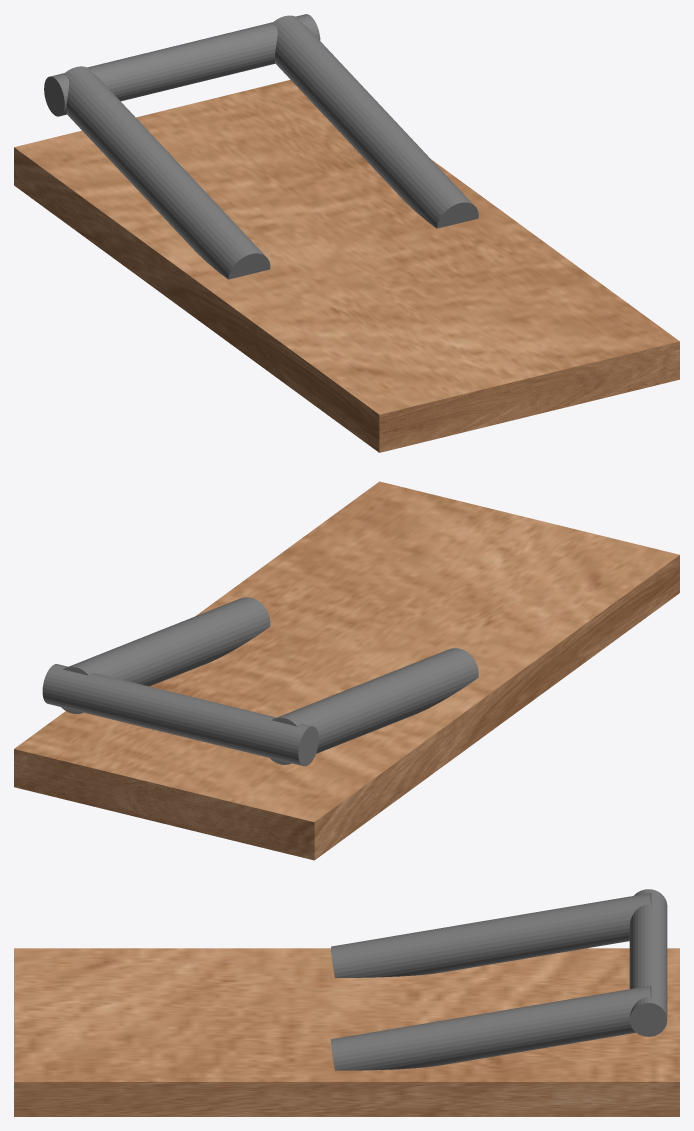
File: mousetrap.fbx
The picture shows the model from 3 angles, top to bottom: view 1: azimuth 30°, elevation 25°; view 2: azimuth 150°, elevation 25°; view 3: azimuth 270°, elevation 25°; orthographic projection. The views are drawn at different scales.
Parts seen in each view (by area): view 1: Cube, Cylinder, Cylinder.001; view 2: Cube, Cylinder, Cylinder.001; view 3: Cube, Cylinder, Cylinder.001.
Boxes of the visible parts, left/top/right/bottom form: Cube: left=14, top=80, right=679, bottom=452; Cylinder: left=63, top=15, right=478, bottom=279; Cylinder.001: left=44, top=14, right=320, bottom=116; Cube: left=14, top=481, right=679, bottom=860; Cylinder: left=61, top=597, right=478, bottom=764; Cylinder.001: left=42, top=664, right=318, bottom=766; Cube: left=14, top=948, right=679, bottom=1116; Cylinder: left=331, top=893, right=651, bottom=1070; Cylinder.001: left=629, top=889, right=667, bottom=1036.
Bounding box in the file's own units: 200 × 75.77 × 421.
